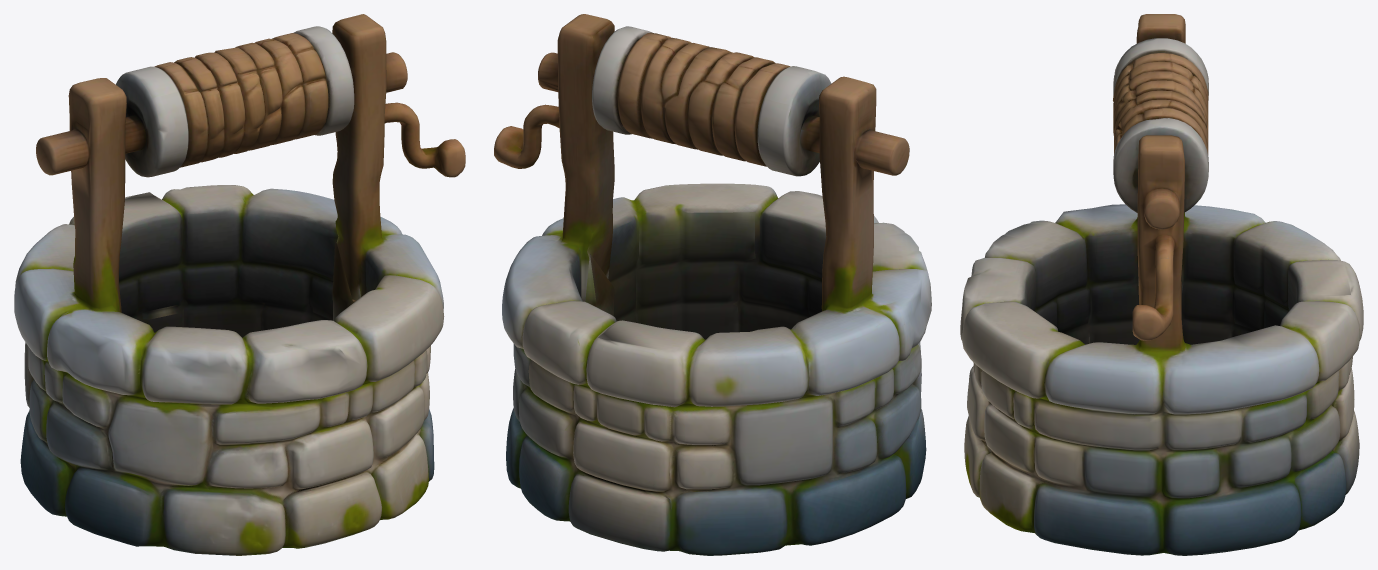
File: Nature__a_stone_well_beb20339_v2.cluster.glb
3 views of the same model, side by side, from view 1: azimuth 30°, elevation 25°; view 2: azimuth 150°, elevation 25°; view 3: azimuth 270°, elevation 25° (orthographic). The views are drawn at different scales.
Visible parts, largest first — view 1: material; view 2: material; view 3: material.
Boxes of the visible parts, left/top/right/bottom form: material: left=14, top=14, right=465, bottom=555; material: left=494, top=14, right=931, bottom=555; material: left=960, top=14, right=1363, bottom=555.
Bounding box in the file's own units: 1.9 × 1.84 × 1.7.
1 material, 1 textured.
